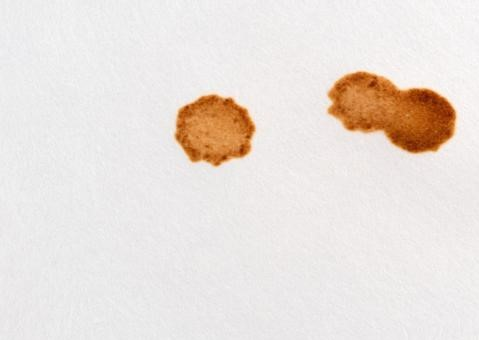stain: (326, 67, 464, 163), (170, 92, 260, 166)
